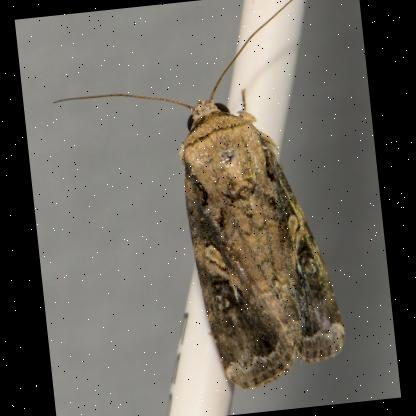Fall Armyworm Moth: (38, 0, 353, 408)
